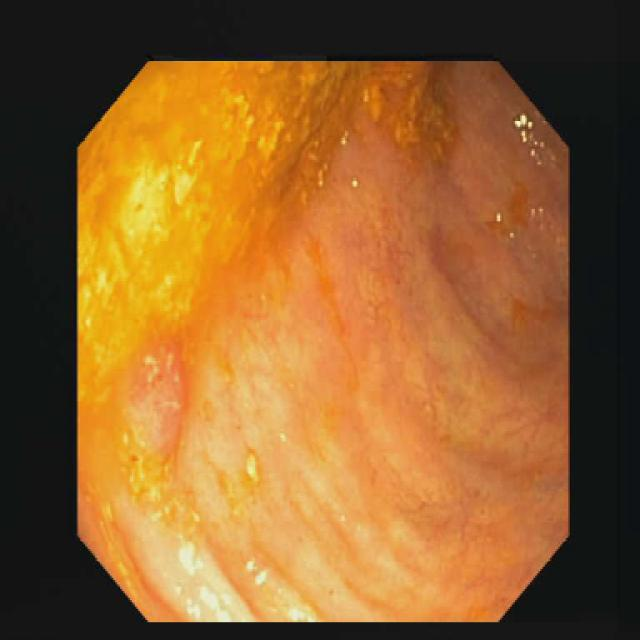tumor: (123, 338, 187, 458)
